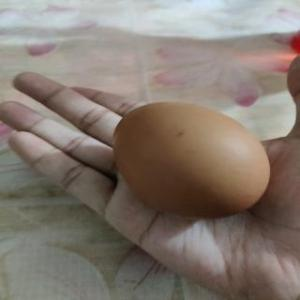egg: (111, 101, 272, 219)
